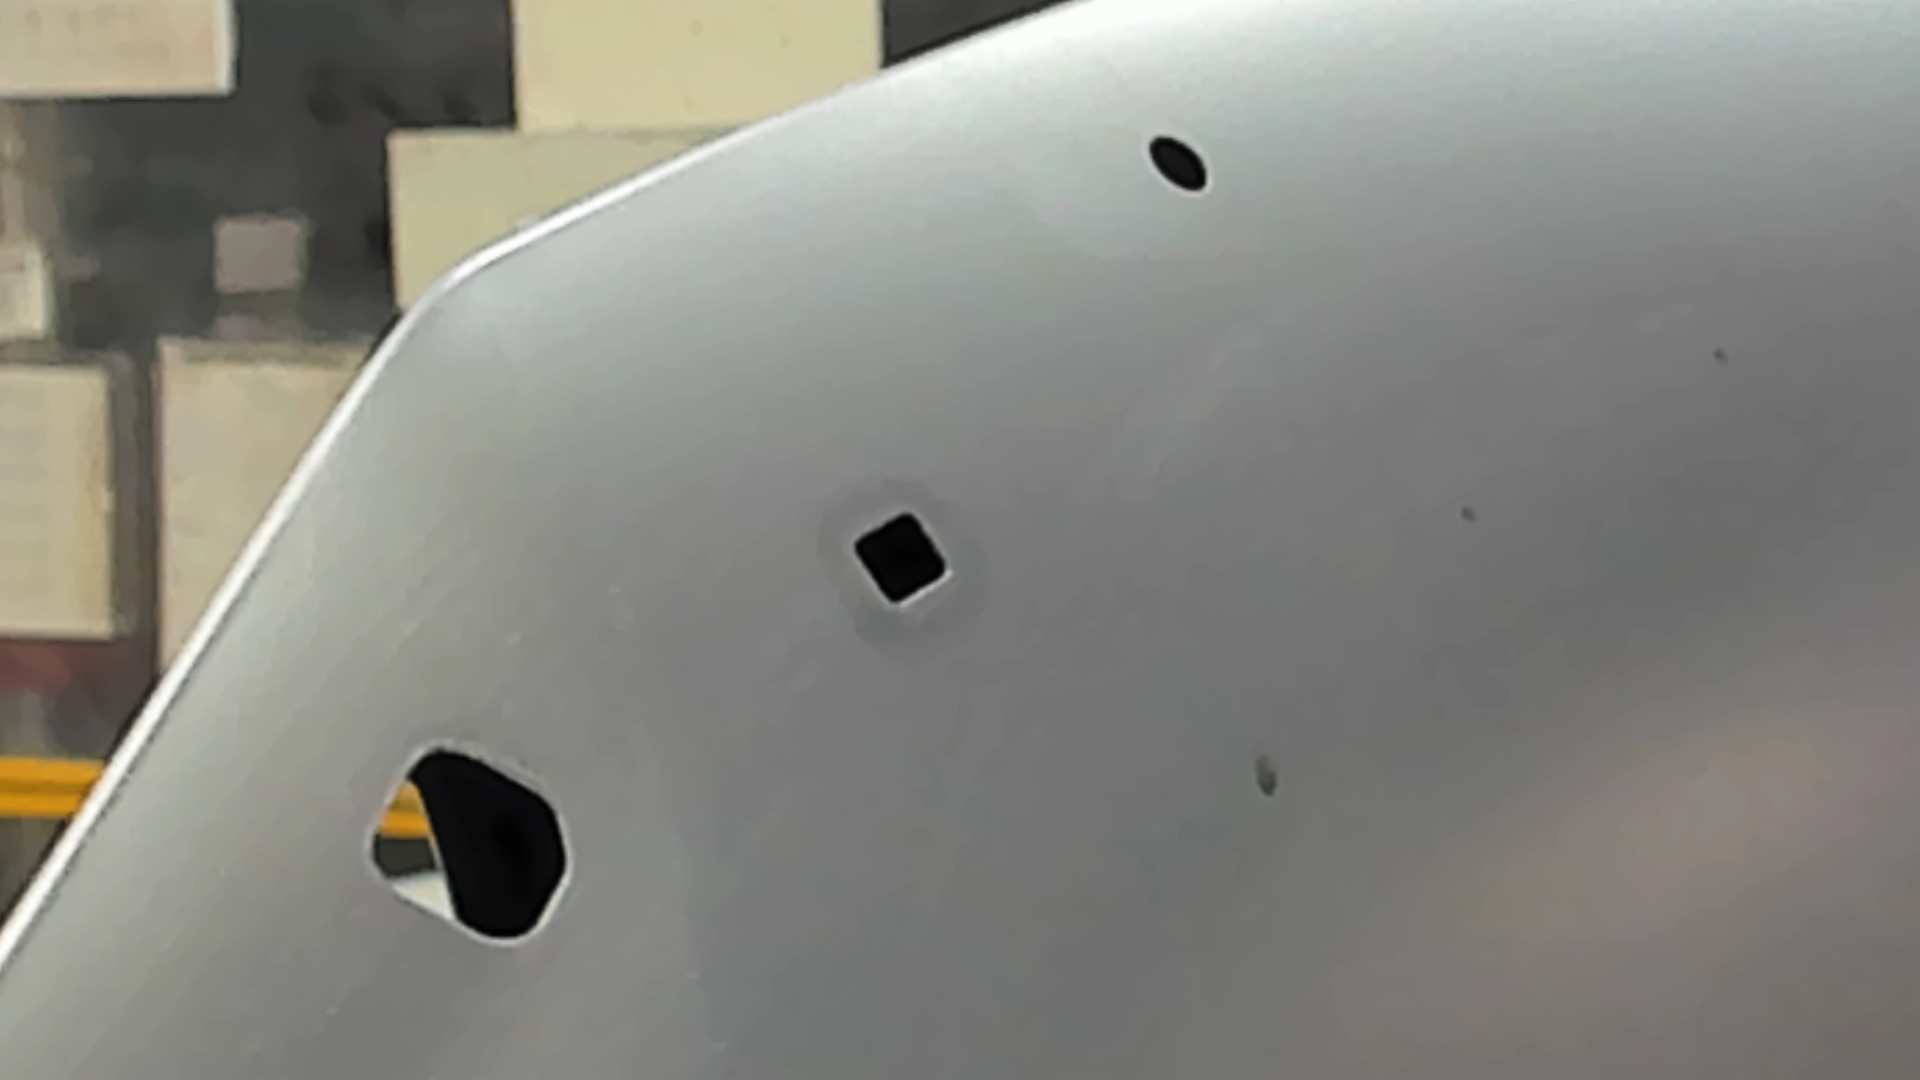chico: (1146, 132, 1211, 195)
grande: (365, 741, 574, 949)
mediano: (852, 510, 951, 607)
